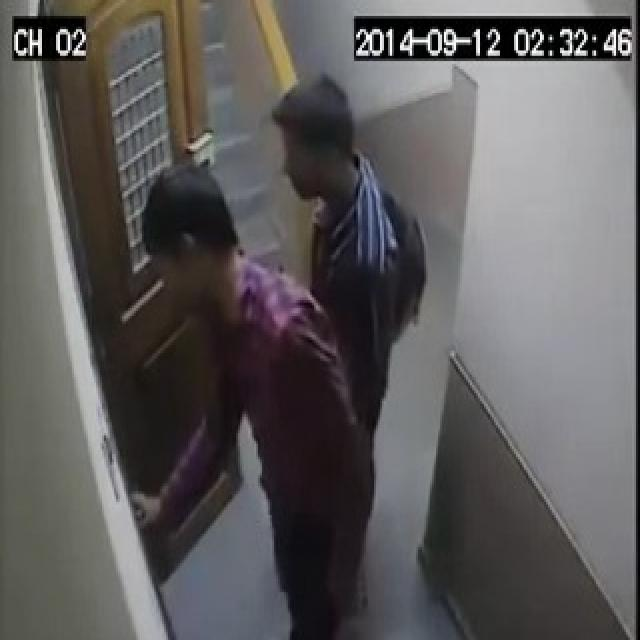thief: (108, 64, 387, 640)
